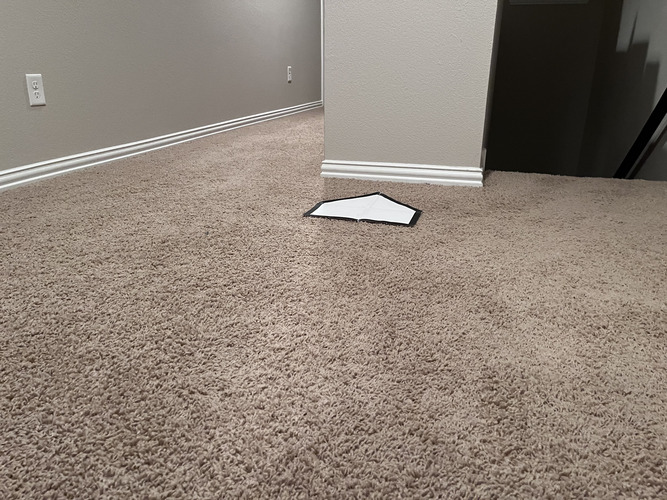homeplate: (302, 191, 423, 227)
